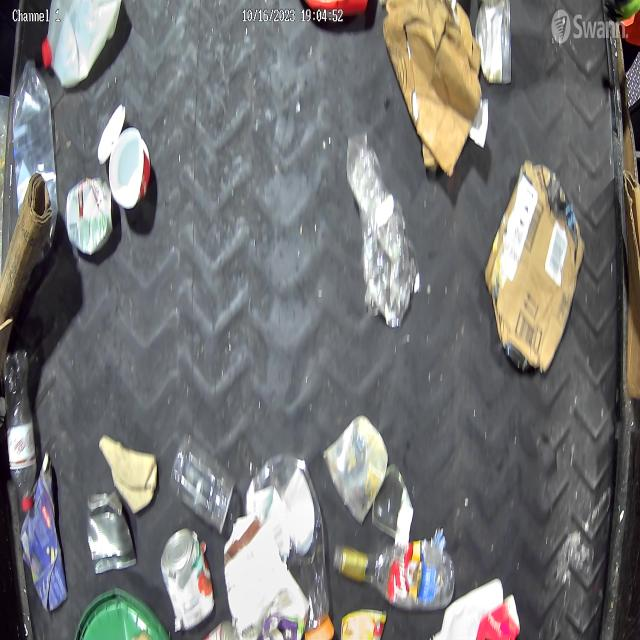can: (160, 525, 217, 631), (84, 491, 138, 576), (63, 174, 116, 260), (472, 0, 514, 88)
milk_jug: (40, 0, 123, 90)
plastic_bottle: (15, 56, 59, 258), (331, 540, 456, 610), (0, 348, 40, 514)
